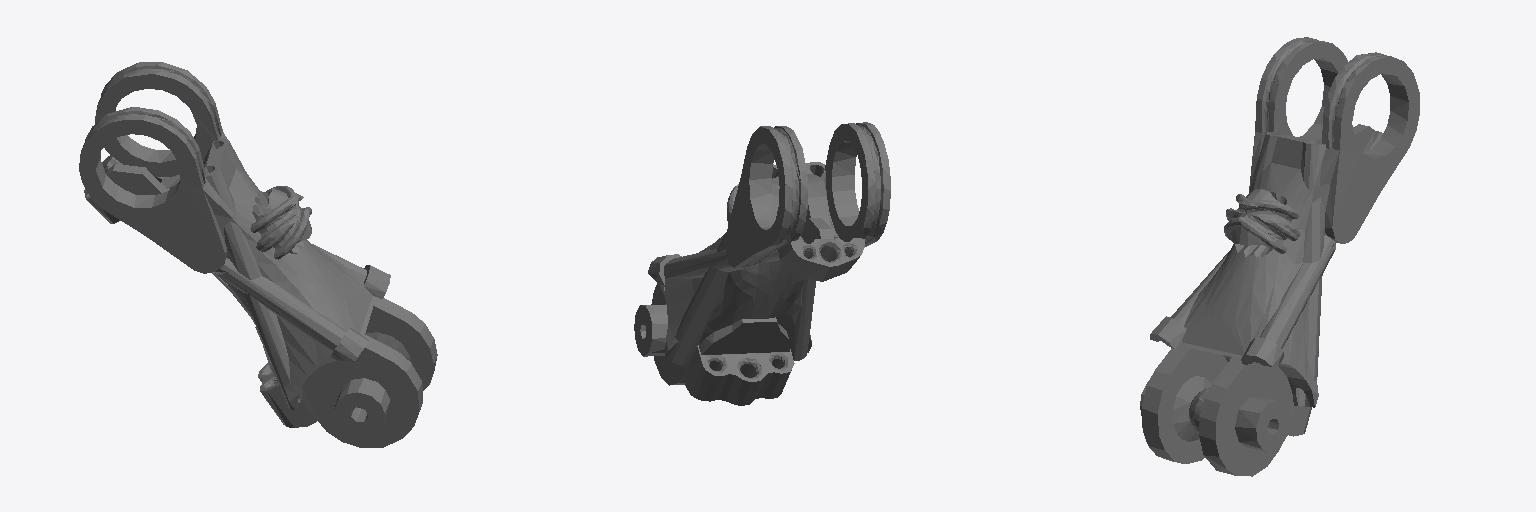
The model's file is hand_finger1-a.obj.
3 renders of one model, left to right at view 1: azimuth 30°, elevation 25°; view 2: azimuth 150°, elevation 25°; view 3: azimuth 270°, elevation 25°, orthographic.
Parts seen in each view (by area): view 1: finger1-a; view 2: finger1-a; view 3: finger1-a.
Part boxes in pixels (x1,y1,x2,y2): finger1-a: (79,62,437,447); finger1-a: (634,122,890,405); finger1-a: (1140,37,1419,476).
Size of the model in its own units: 0.1197 by 0.1314 by 0.0972.